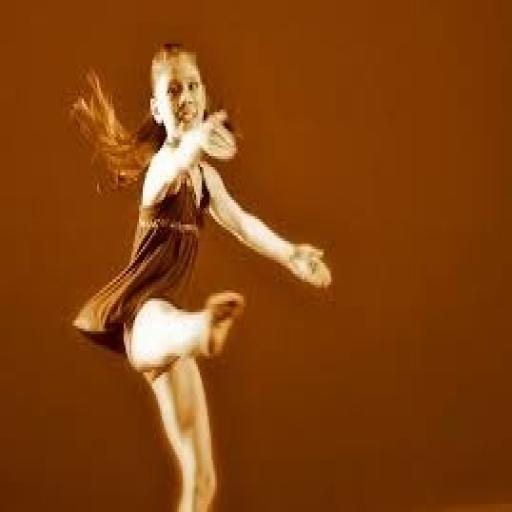dancing: (67, 38, 335, 510)
